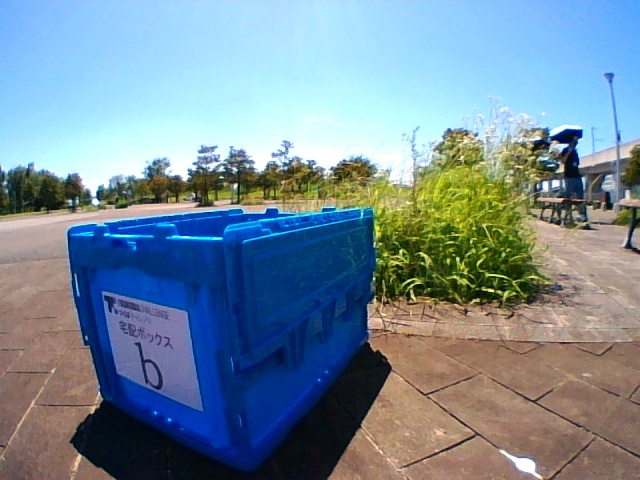blue_box: (69, 212, 370, 414)
tag_b: (120, 310, 187, 391)
